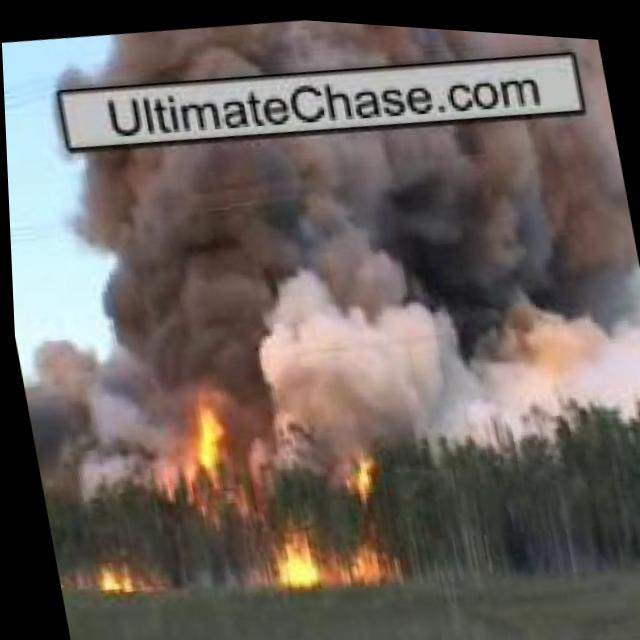Fire: (335, 433, 393, 577), (250, 506, 318, 592), (185, 386, 236, 485), (84, 559, 134, 591)
